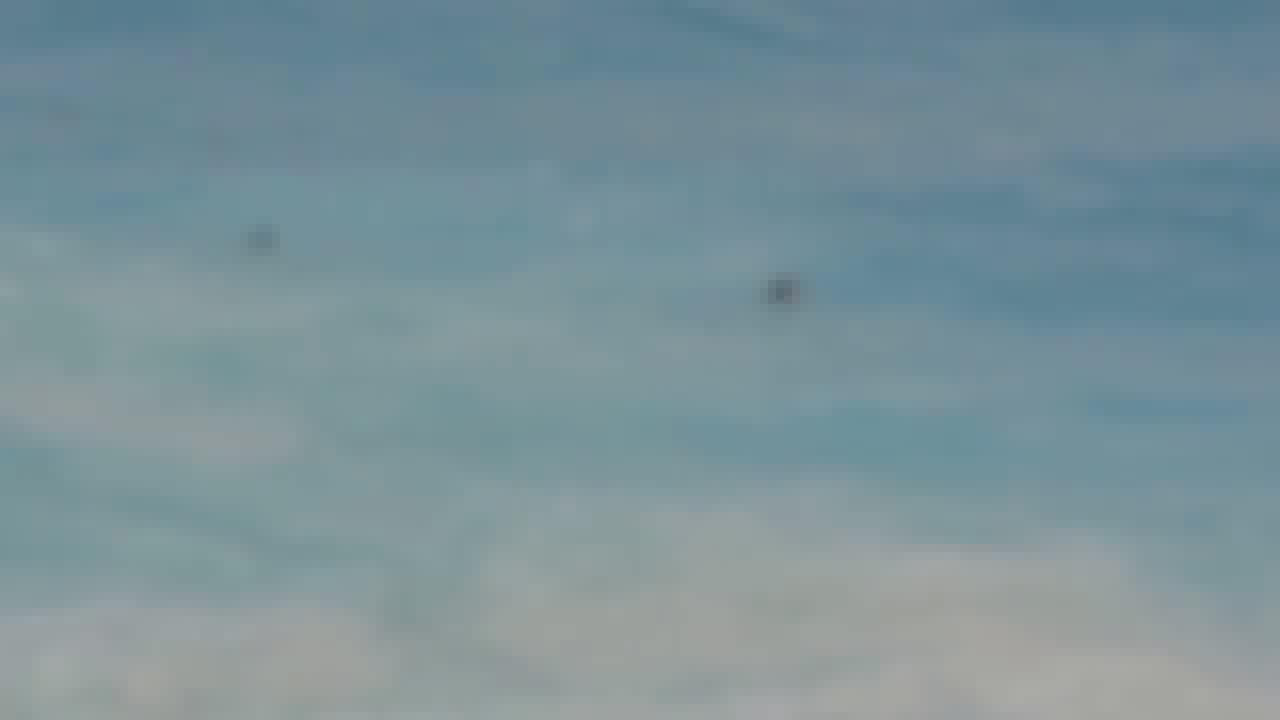swimmer: (753, 262, 825, 330), (231, 215, 304, 267)
